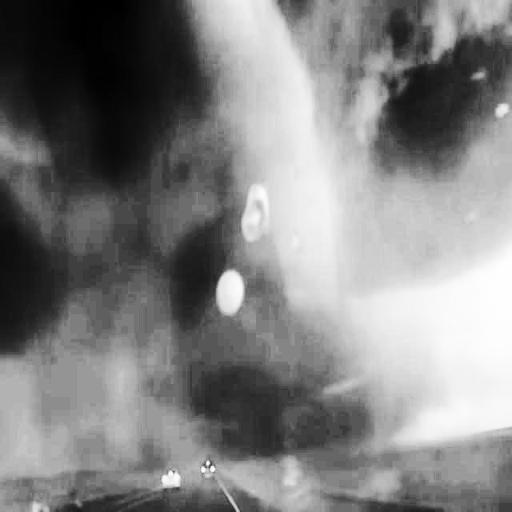balloon: (243, 185, 270, 244), (218, 271, 243, 314)
